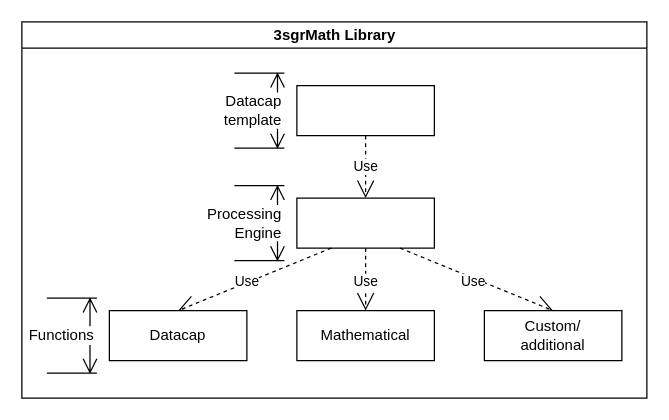
Some shapes in this 669 by 420 pixel diagram are drawn without their labels. The shapes that lost their labels are listed below. From the top down, each one's centre as x and y in pixels, then its label:
the point at 365,110: Custom Actions
the point at 365,222: Formula Processor
